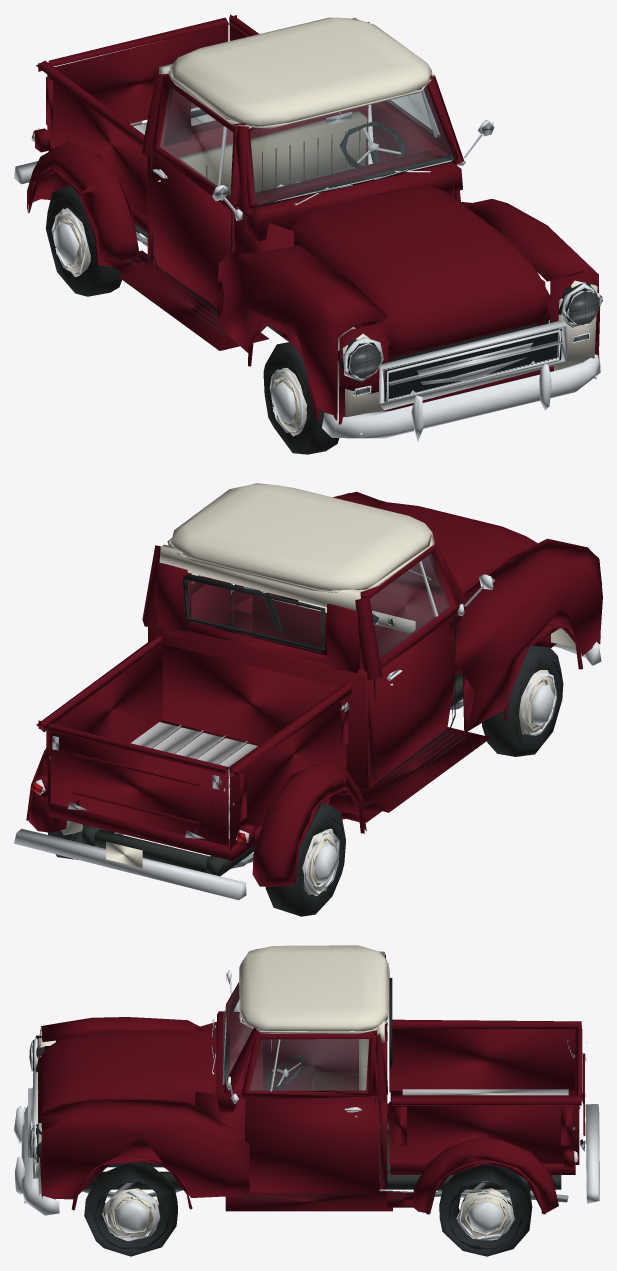
Rendered from red-pickup.glb.
The picture shows the model from 3 angles, top to bottom: view 1: azimuth 30°, elevation 25°; view 2: azimuth 150°, elevation 25°; view 3: azimuth 270°, elevation 25°; orthographic projection. The views are drawn at different scales.
Visible parts, largest first — view 1: red-pickup; view 2: red-pickup; view 3: red-pickup.
Boxes of the visible parts, x1,y1,x2,y2 form: red-pickup: [14, 14, 602, 454]; red-pickup: [14, 483, 602, 916]; red-pickup: [14, 945, 599, 1256].
Size of the model in its own units: 1.98 by 1.9 by 4.43.
Materials: 14 (1 with a texture image).
